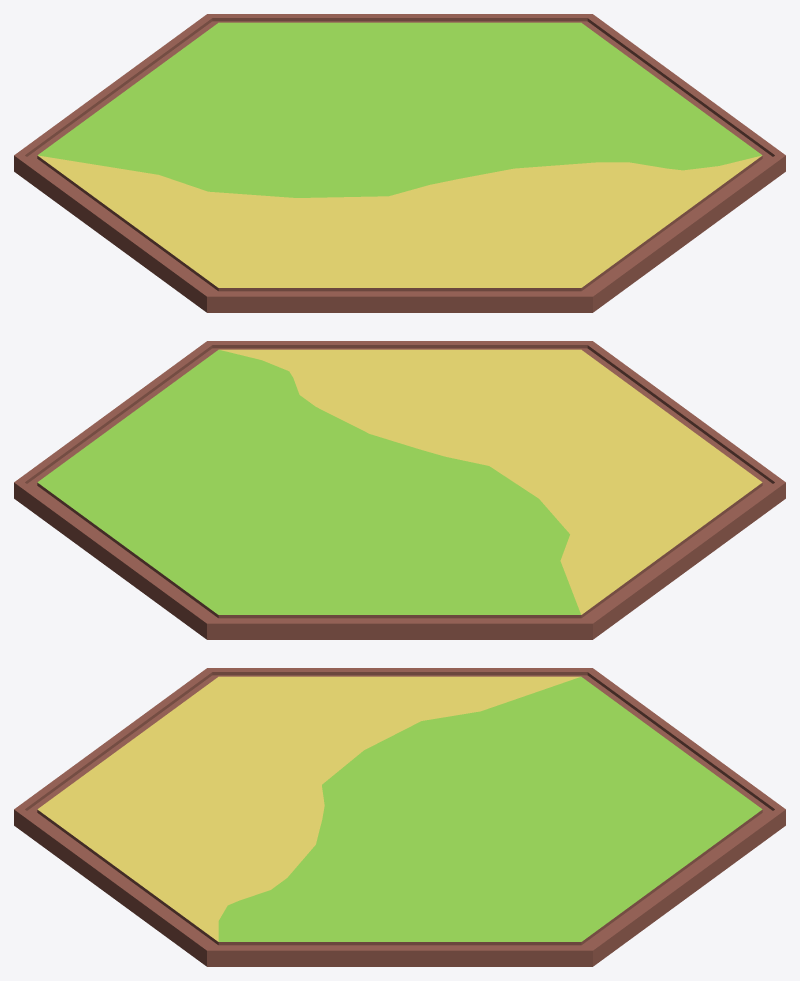
File: Hexagon_Beach2.fbx
3 renders of one model, top to bottom at view 1: azimuth 30°, elevation 25°; view 2: azimuth 150°, elevation 25°; view 3: azimuth 270°, elevation 25°, orthographic.
Visible parts, largest first — view 1: Circle; view 2: Circle; view 3: Circle.
Boxes of the visible parts, x1=… form: Circle: x1=14, y1=14, x2=785, y2=312; Circle: x1=14, y1=341, x2=785, y2=639; Circle: x1=14, y1=668, x2=785, y2=966.
Bounding box in the file's own units: 3017 × 80.56 × 3484.
1 material, 1 textured.
